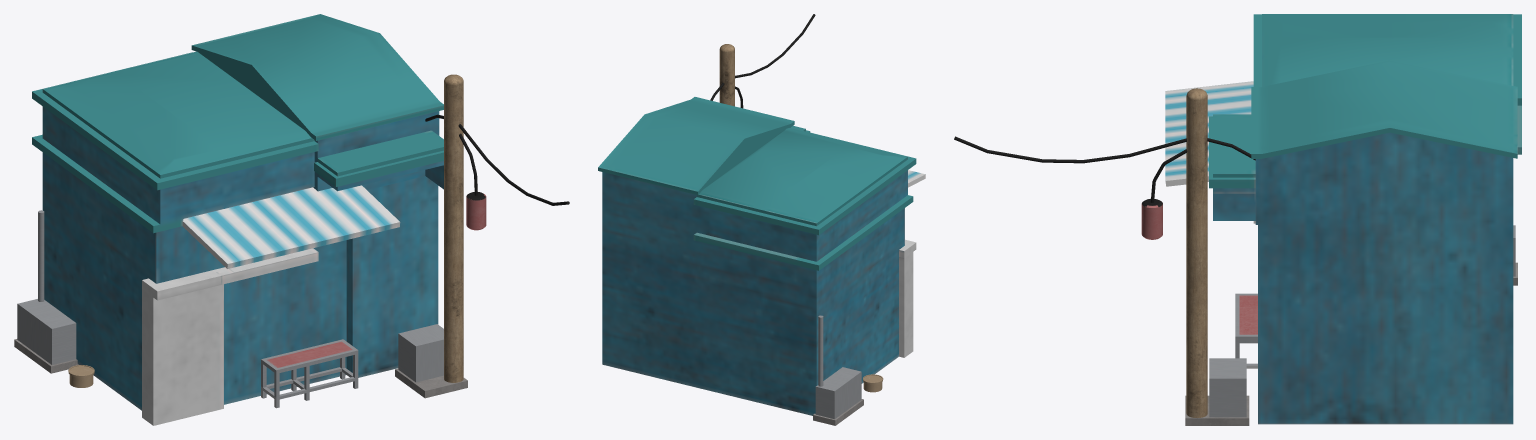
File: tokyo-konbini.glb
The picture shows the model from 3 angles, left to right: view 1: azimuth 30°, elevation 25°; view 2: azimuth 150°, elevation 25°; view 3: azimuth 270°, elevation 25°; orthographic projection. The views are drawn at different scales.
Visible parts, largest first — view 1: lampion; view 2: lampion; view 3: lampion.
Part boxes in pixels (x1=…): lampion: x1=14, y1=14, x2=569, y2=425; lampion: x1=598, y1=14, x2=925, y2=425; lampion: x1=954, y1=14, x2=1521, y2=425.
Size of the model in its own units: 8.92 by 8.58 by 13.33.
1 material, 1 textured.
